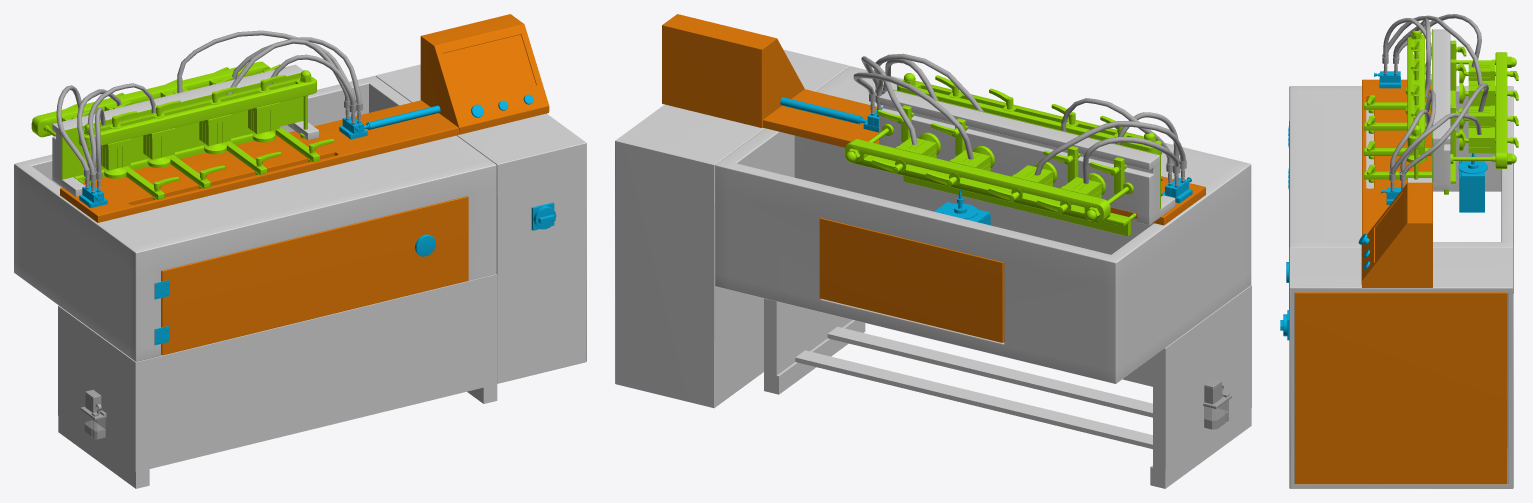
The model's file is YanWeiJi.fbx.
The picture shows the model from 3 angles, left to right: view 1: azimuth 30°, elevation 25°; view 2: azimuth 150°, elevation 25°; view 3: azimuth 270°, elevation 25°; orthographic projection. The views are drawn at different scales.
Visible parts, largest first — view 1: polySurface5, polySurface26, polySurface8, polySurface35, polySurface28, polySurface37, polySurface41 (×2), polySurface38, polySurface14, pCube13 (×4), polySurface13, pCube4 (+9 smaller); view 2: polySurface26, polySurface35, polySurface5, polySurface27, polySurface37, polySurface13, polySurface41 (×2), pCube6, pCube7, polySurface28, pCube4, polySurface29 (+8 smaller); view 3: polySurface36, polySurface26, polySurface35, polySurface37, polySurface28, polySurface13, polySurface41 (×2), pCube13 (×4), polySurface20 (×4), pCube12, polySurface38, simplePipe (×2) (+6 smaller).
Boxes of the visible parts, left/top/right/bottom form: polySurface5: left=58, top=274, right=497, bottom=472; polySurface26: left=14, top=75, right=496, bottom=361; polySurface8: left=161, top=196, right=468, bottom=355; polySurface35: left=375, top=64, right=586, bottom=383; polySurface28: left=60, top=100, right=458, bottom=222; polySurface37: left=420, top=14, right=549, bottom=134; polySurface41 (×2): left=31, top=61, right=316, bottom=148; polySurface38: left=443, top=34, right=535, bottom=103; polySurface14: left=62, top=72, right=303, bottom=179; pCube13 (×4): left=101, top=102, right=280, bottom=170; polySurface13: left=52, top=64, right=319, bottom=196; pCube4: left=58, top=416, right=149, bottom=488; polySurface26: left=715, top=66, right=1251, bottom=383; polySurface35: left=615, top=49, right=849, bottom=408; polySurface5: left=764, top=285, right=1251, bottom=470; polySurface27: left=819, top=218, right=1004, bottom=342; polySurface37: left=662, top=14, right=804, bottom=127; polySurface13: left=879, top=90, right=1175, bottom=225; polySurface41 (×2): left=844, top=80, right=1161, bottom=222; pCube6: left=795, top=350, right=1152, bottom=449; pCube7: left=827, top=326, right=1152, bottom=417; polySurface28: left=763, top=89, right=1205, bottom=225; pCube4: left=1150, top=408, right=1251, bottom=488; polySurface29: left=903, top=175, right=1130, bottom=236; polySurface36: left=1294, top=292, right=1507, bottom=484; polySurface26: left=1289, top=86, right=1513, bottom=347; polySurface35: left=1289, top=247, right=1513, bottom=488; polySurface37: left=1361, top=182, right=1432, bottom=287; polySurface28: left=1362, top=79, right=1431, bottom=235; polySurface13: left=1407, top=29, right=1450, bottom=189; polySurface41 (×2): left=1407, top=34, right=1507, bottom=168; pCube13 (×4): left=1468, top=61, right=1494, bottom=153; polySurface20 (×4): left=1364, top=102, right=1431, bottom=179; pCube12: left=1459, top=161, right=1484, bottom=212; polySurface38: left=1375, top=193, right=1402, bottom=261; simplePipe (×2): left=1383, top=18, right=1431, bottom=171.
Bounding box in the file's own units: 206 × 142 × 99.75.
